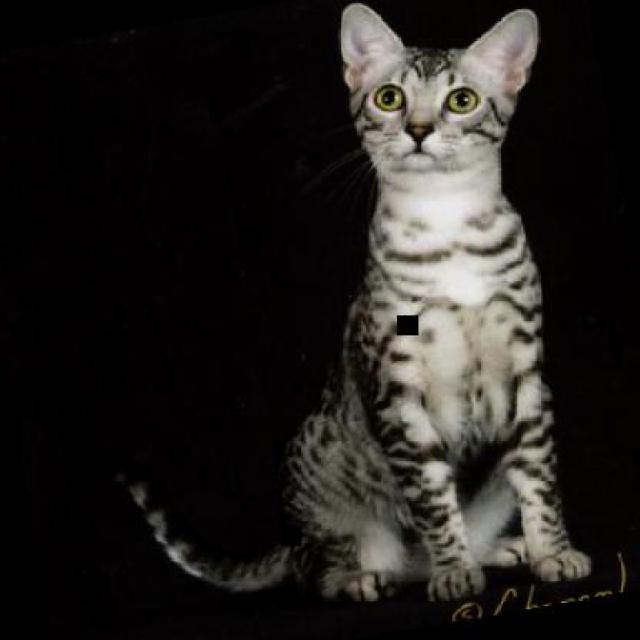cat: (22, 0, 635, 638)
